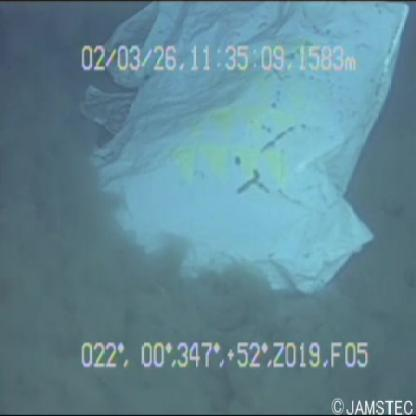Rác: (68, 7, 415, 320)
